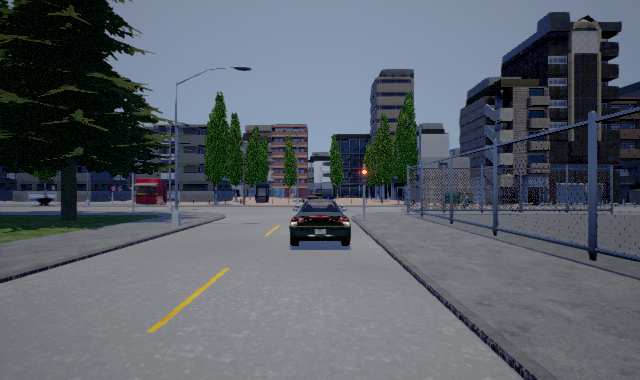traffic_light: (359, 166, 368, 184)
vehicle: (289, 199, 351, 246)
